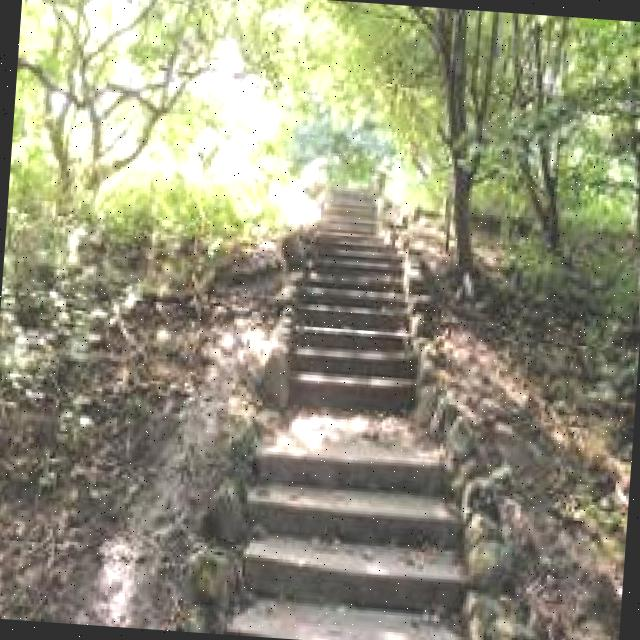stairs: (209, 175, 519, 640)
